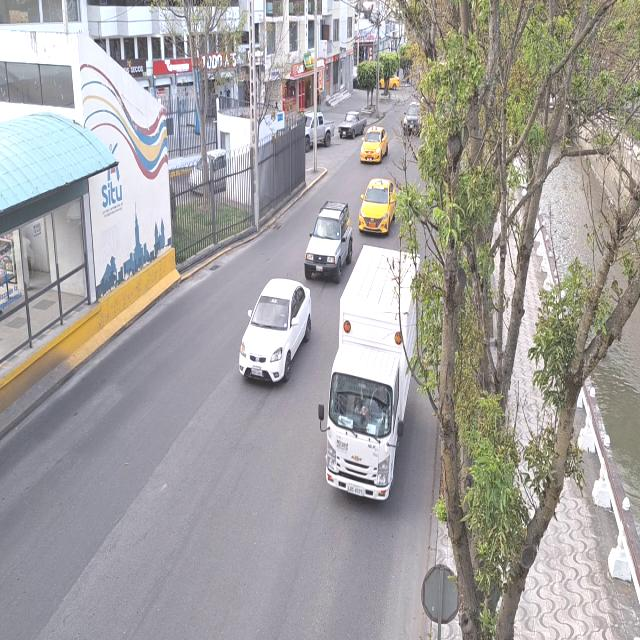CMT: (305, 113, 335, 146), (338, 111, 367, 140)
SED: (238, 275, 312, 388), (303, 198, 354, 286), (358, 178, 397, 234)
TRUCK: (322, 246, 414, 504)
